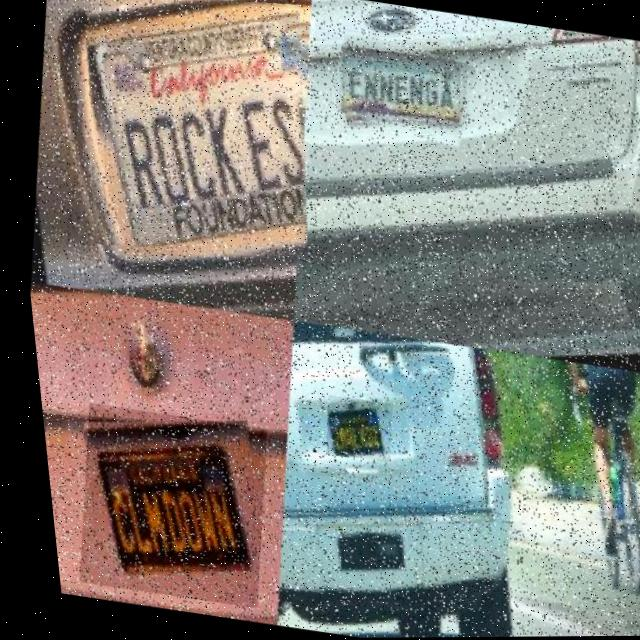LicensePlate: (53, 0, 336, 272), (52, 402, 272, 609), (338, 52, 464, 124), (311, 395, 388, 463)
